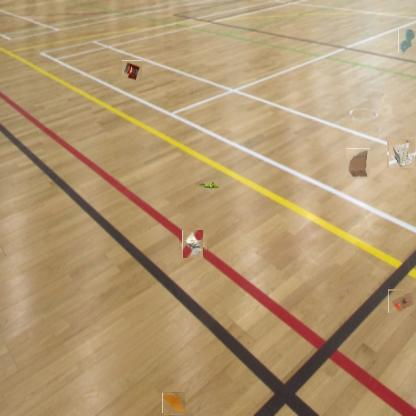dirty: (388, 138, 416, 168), (346, 148, 370, 179), (388, 290, 415, 314), (181, 232, 205, 257), (122, 60, 142, 81), (197, 179, 223, 191)
liquid: (163, 393, 185, 414), (398, 30, 415, 54)
